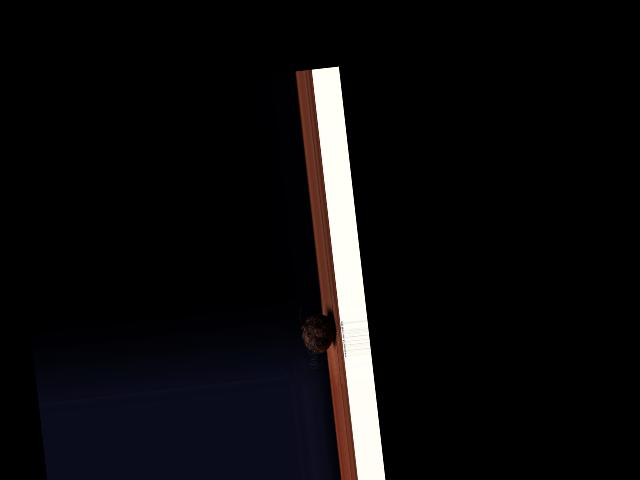beet: (298, 300, 337, 354)
